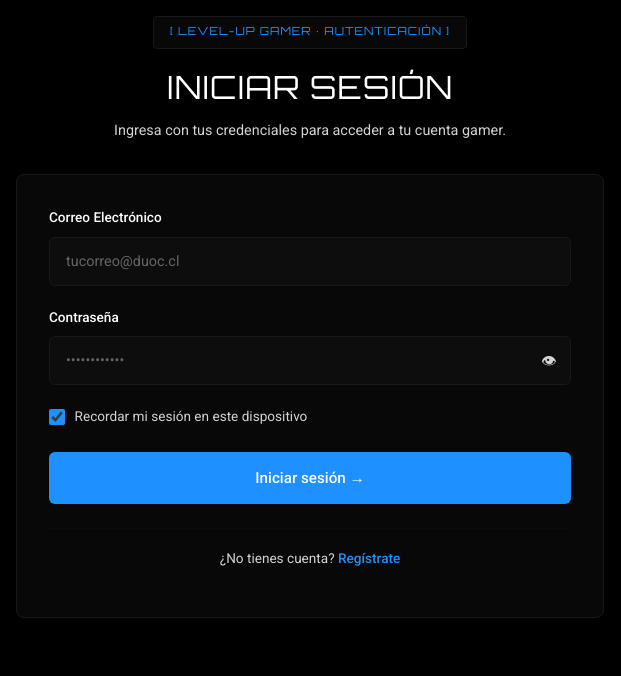
Test case: Área 1: Inicio de sesión › 1.2 Rechaza una contraseña incorrecta sin crear sesión
The image size is (621, 676).
Type "camila.reyes@duoc.cl" into the field labelled "Correo Electrónico" at (310, 261), box 49,237 -> 571,286
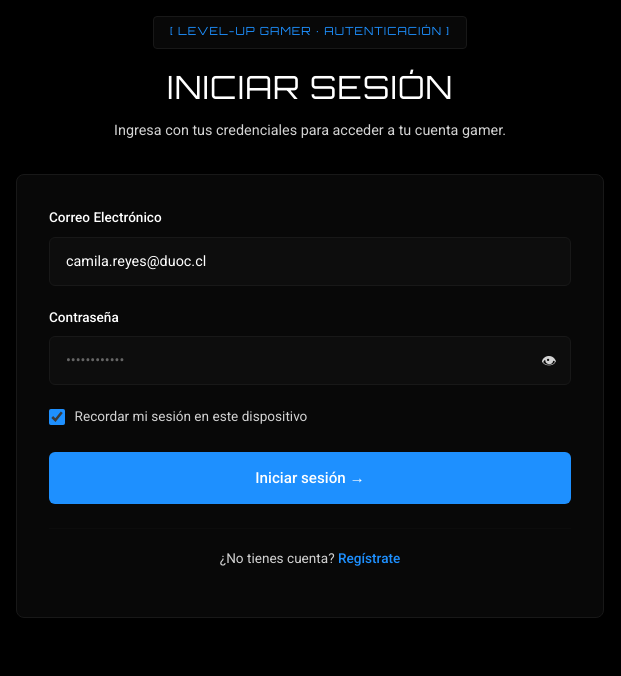
Type "incorrecta" into the password field labelled "Contraseña" at (310, 361), box 49,336 -> 571,385
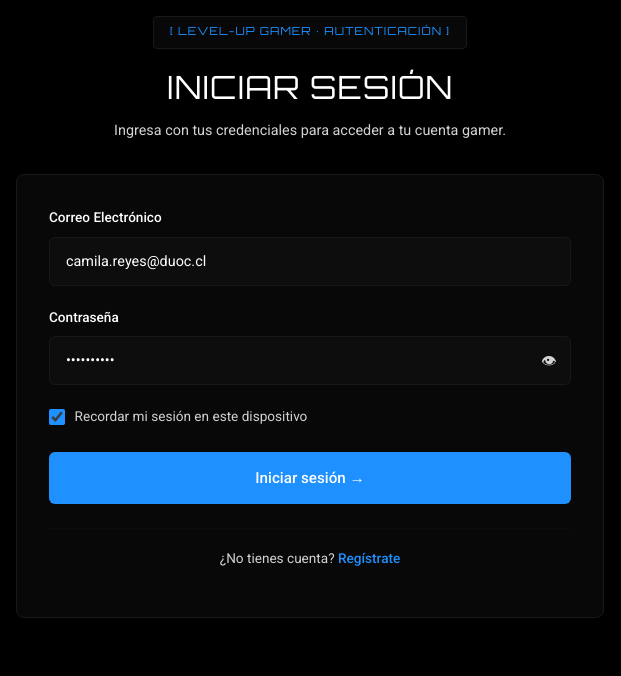
Click the button "Iniciar sesión →" at (310, 478), box 49,452 -> 571,504
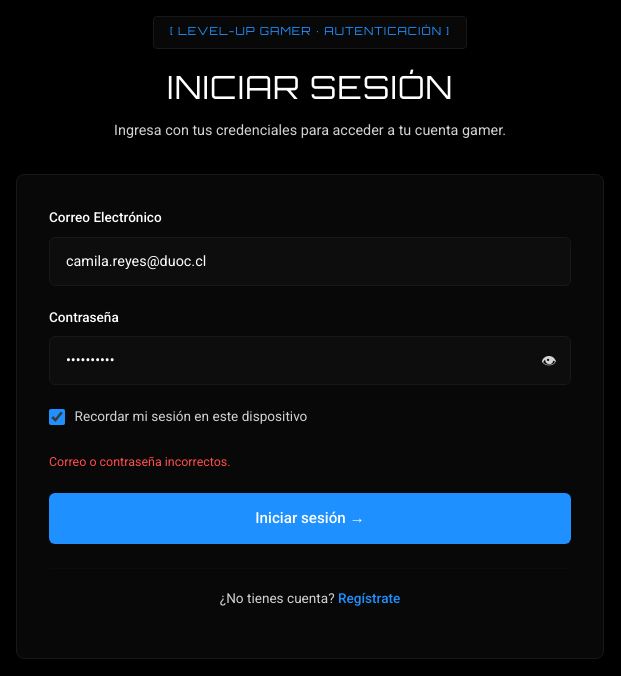
Expected: the message shows "Correo o contraseña incorrectos", 49,454 -> 231,469
